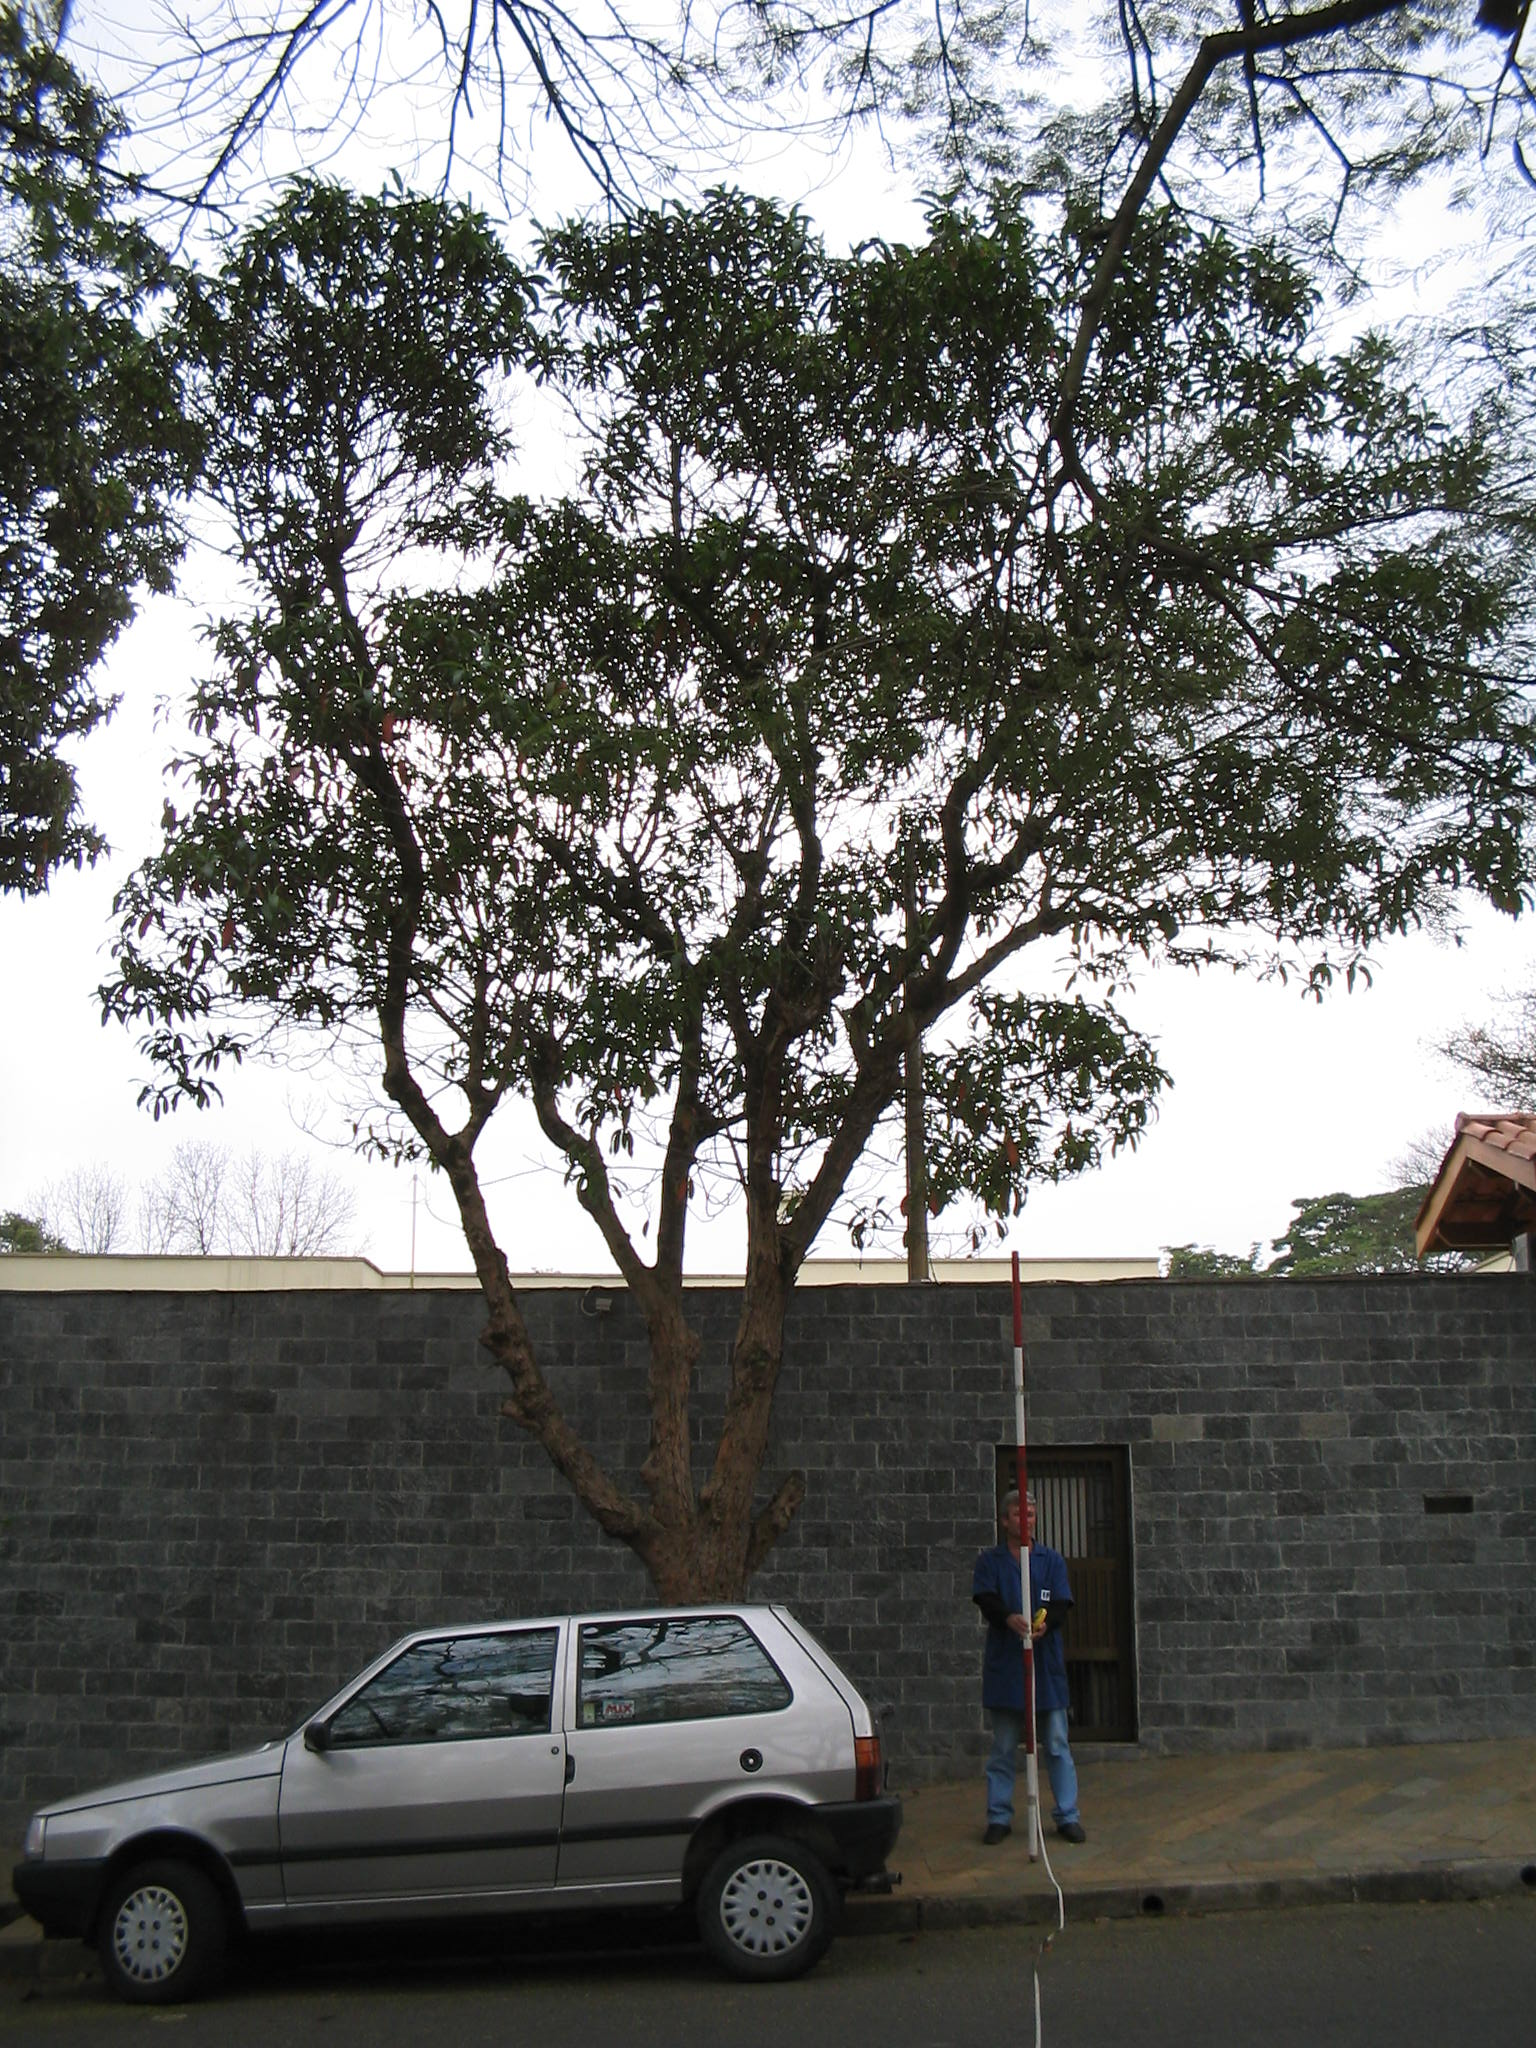crown: (119, 171, 1528, 1303)
stick: (966, 1253, 1083, 1858)
tree: (111, 166, 1533, 1867)
